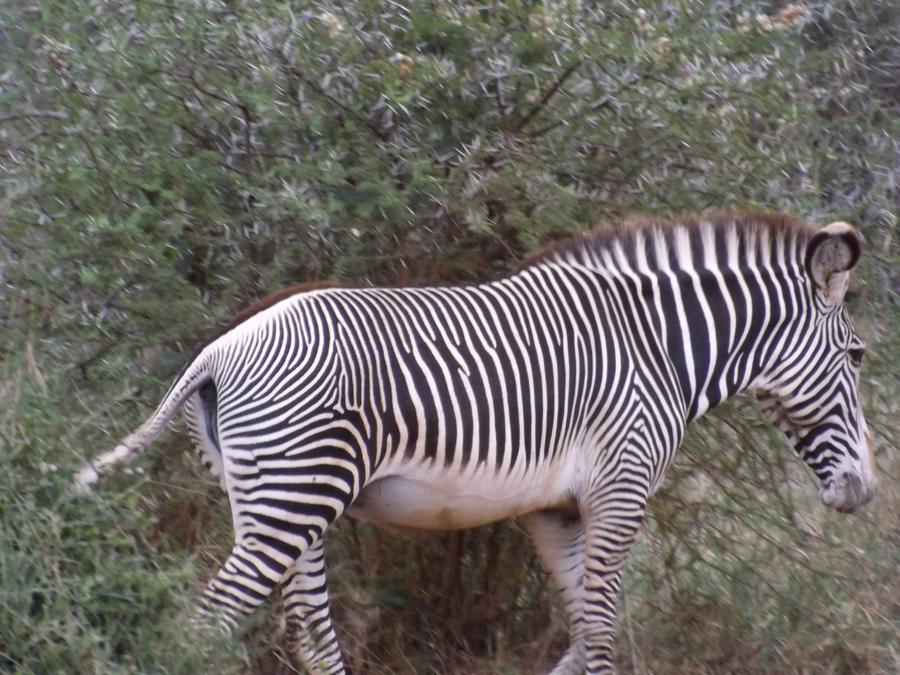zebra_grevys: (163, 266, 653, 512)
